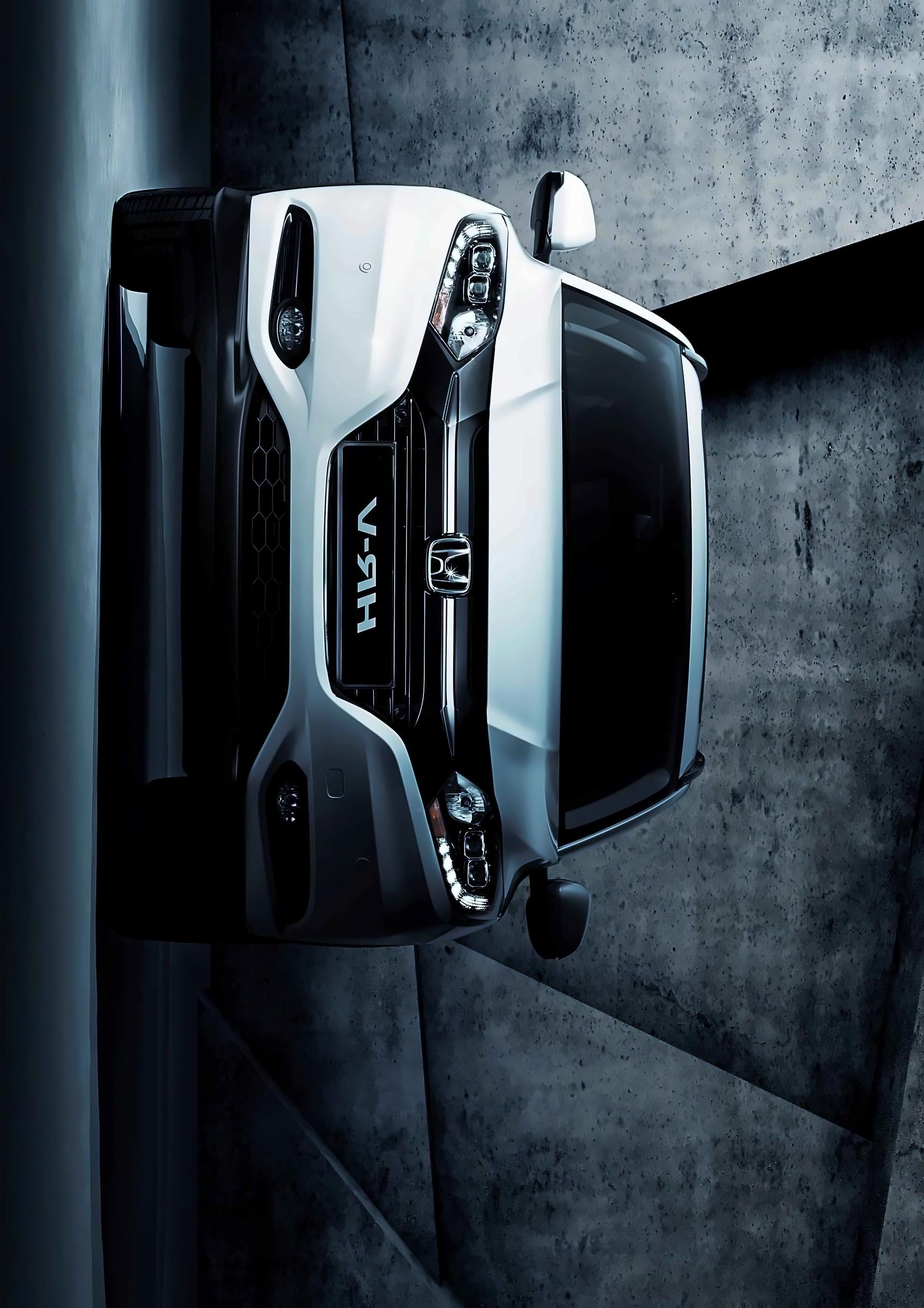Car hood: (480, 210, 572, 922)
Front bumper: (190, 178, 439, 964)
Headlight - -L-: (419, 757, 509, 930)
Headlight - -R-: (425, 200, 519, 374)
Side mirror - -L-: (516, 849, 594, 960)
Side mirror - -R-: (522, 163, 602, 270)
